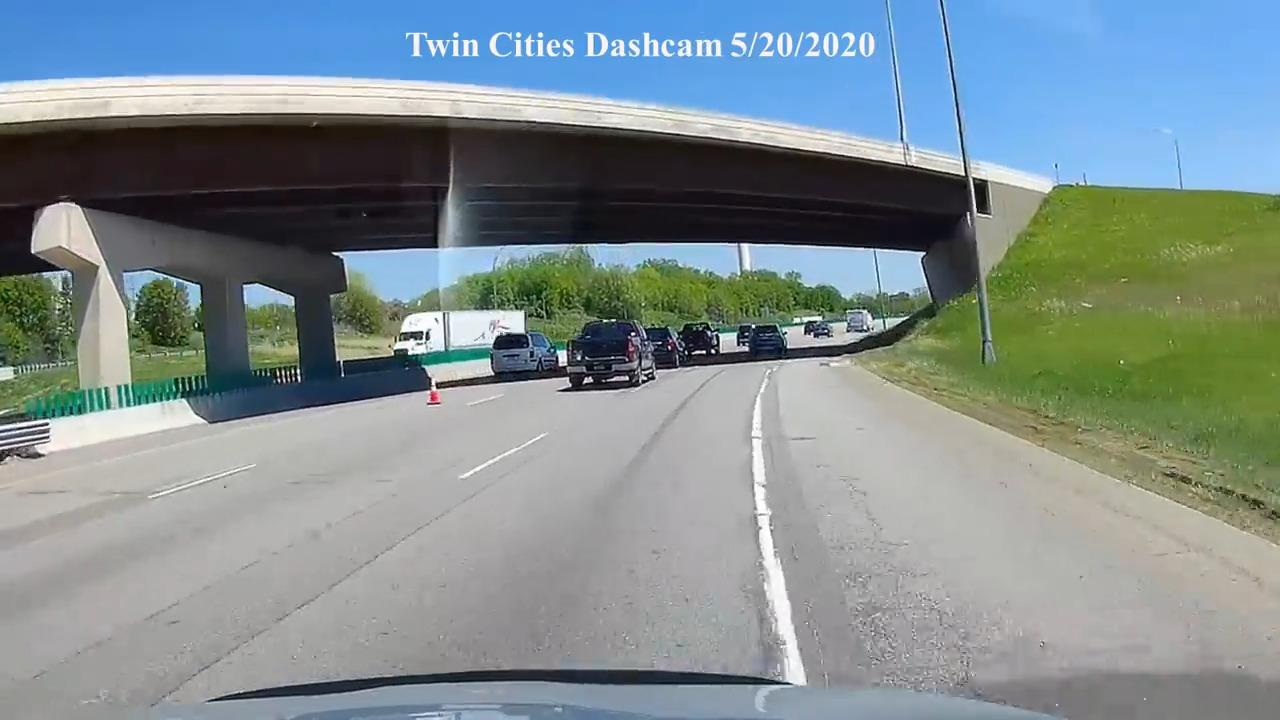car: (489, 331, 561, 377)
traffic cone: (425, 376, 443, 406)
